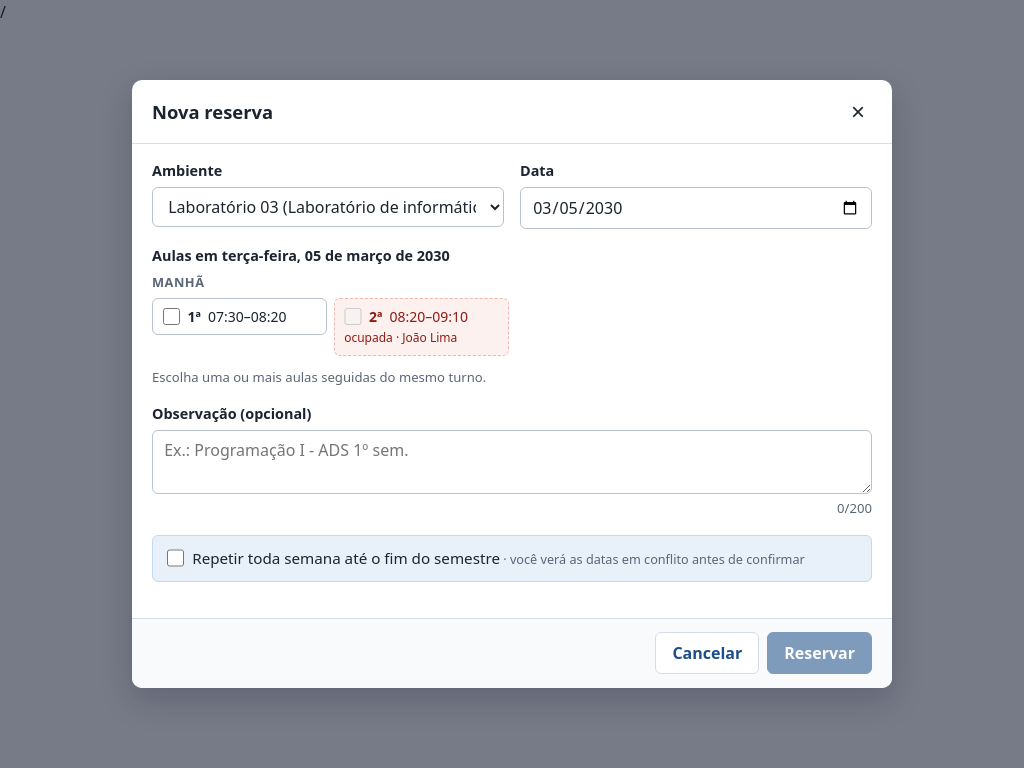
Test: ModalReserva: recorrência com prévia › na recorrência uma aula ocupada na data inicial pode ser escolhida (a prévia mostra o conflito)
Expected: the text "Aulas em" is shown, [152, 246, 450, 265]
Expected: the checkbox labelled "2ª 08:20–09:10 ocupada · João Lima" is disabled, [344, 308, 362, 325]
Click the 3rd checkbox: coordinates (175, 558) [167, 549, 184, 567]
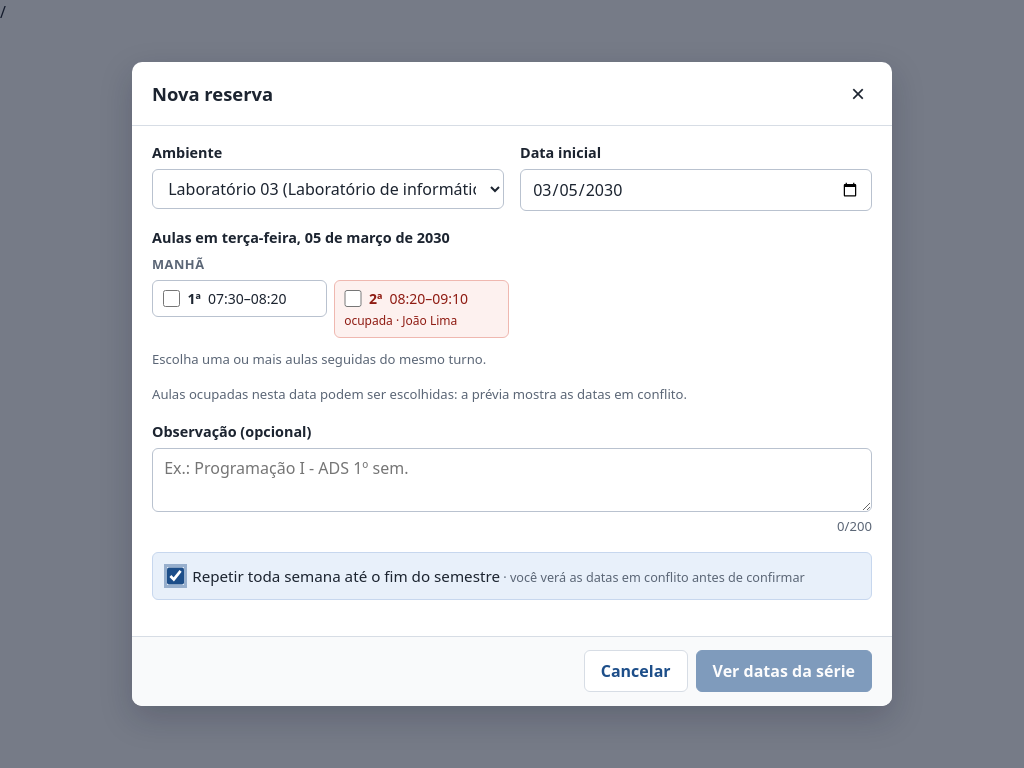
Now the checkbox labelled "2ª 08:20–09:10 ocupada · João Lima" is enabled, box [344, 290, 362, 308]
